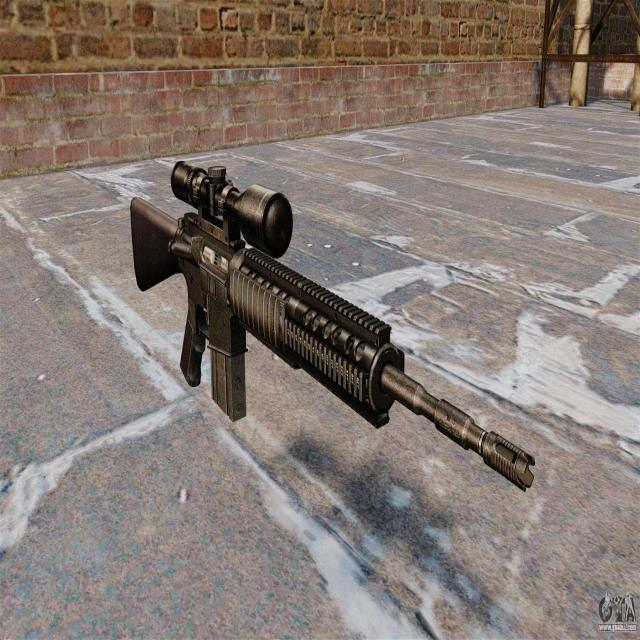Rifle: (133, 162, 535, 490)
